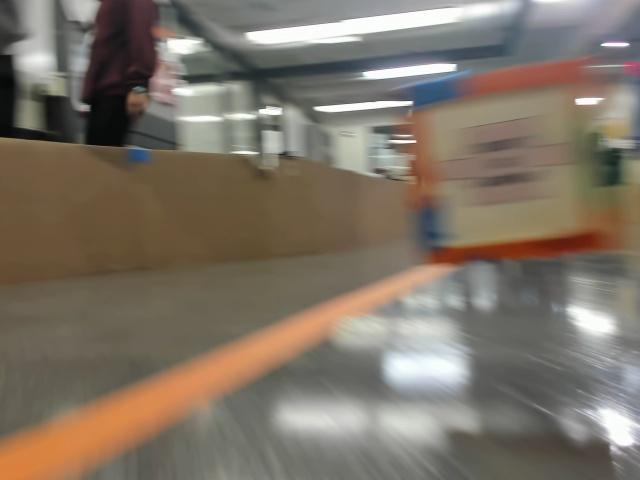Do Not Go Around: (428, 132, 569, 213)
